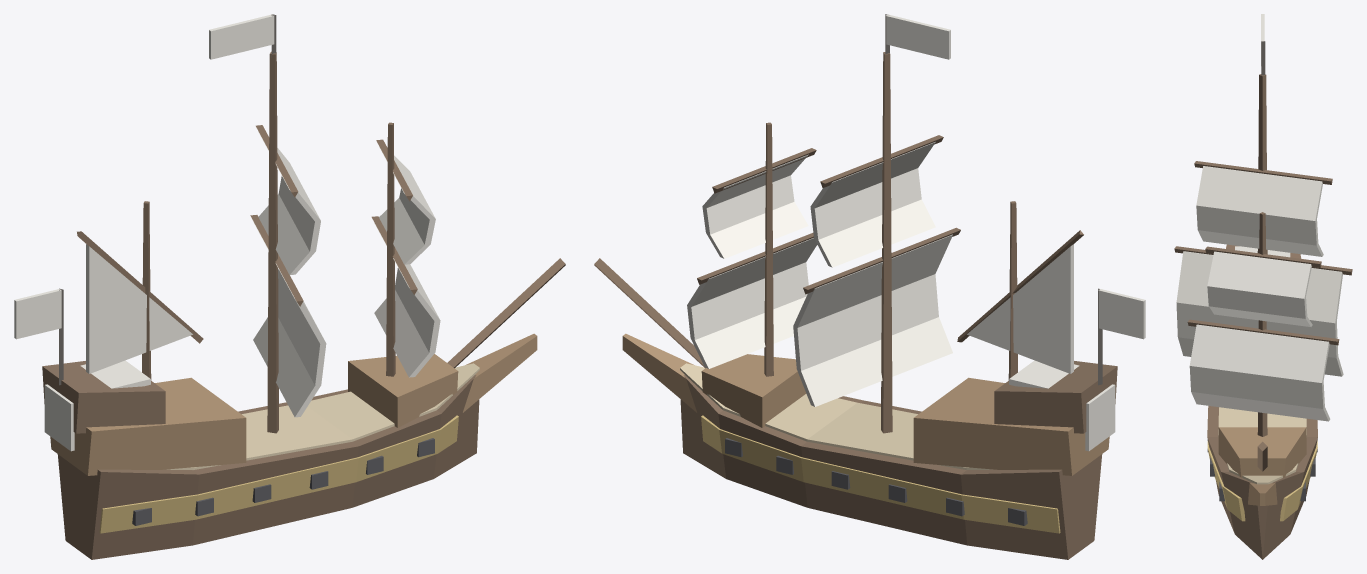
File: fleet.glb
The picture shows the model from 3 angles, left to right: view 1: azimuth 30°, elevation 25°; view 2: azimuth 150°, elevation 25°; view 3: azimuth 270°, elevation 25°; orthographic projection. The views are drawn at different scales.
Parts seen in each view (by area): view 1: gunpowder_fleet; view 2: gunpowder_fleet; view 3: gunpowder_fleet.
Part boxes in pixels (x1,y1,x2,y2): gunpowder_fleet: (14, 14, 565, 559); gunpowder_fleet: (594, 14, 1145, 559); gunpowder_fleet: (1174, 14, 1352, 559).
Bounding box in the file's own units: 0.9995 × 0.8466 × 0.3175.
